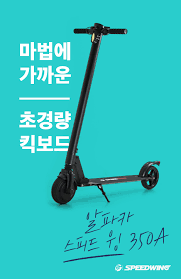kick_body: (86, 176, 141, 182)
kick_handler: (75, 23, 127, 43)
kick_wheel: (50, 177, 75, 203), (143, 166, 159, 188)
